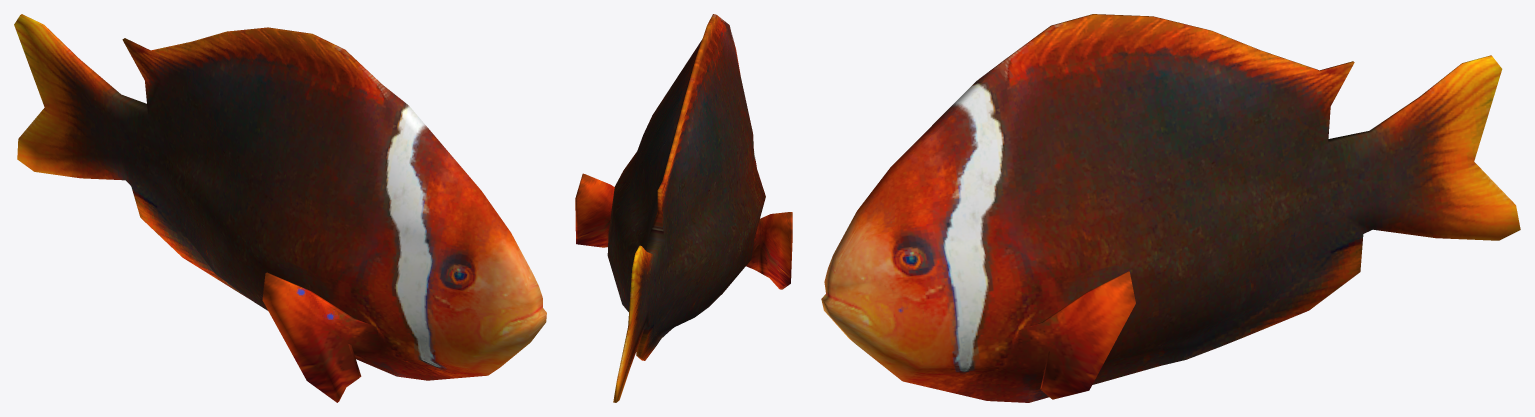
File: TropicalFish14.fbx
The picture shows the model from 3 angles, left to right: view 1: azimuth 30°, elevation 25°; view 2: azimuth 150°, elevation 25°; view 3: azimuth 270°, elevation 25°; orthographic projection. The views are drawn at different scales.
Visible parts, largest first — view 1: node_id5; view 2: node_id5; view 3: node_id5.
Part boxes in pixels (box(x1,y1,x2,y2)): node_id5: box(14, 14, 546, 402); node_id5: box(575, 14, 792, 402); node_id5: box(821, 14, 1520, 402).
Size of the model in its own units: 0.2055 by 0.2538 by 0.4524.
1 material, 1 textured.
